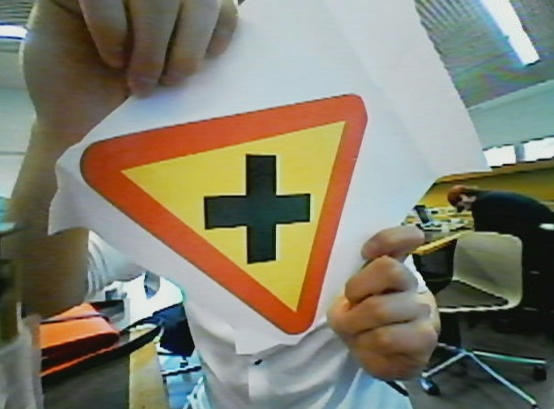junction: (65, 99, 395, 322)
